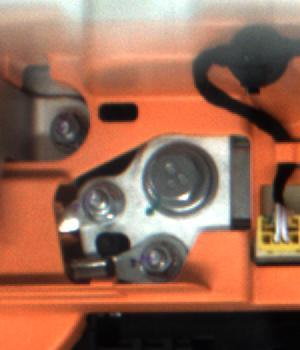nut_b: (140, 143, 221, 216)
